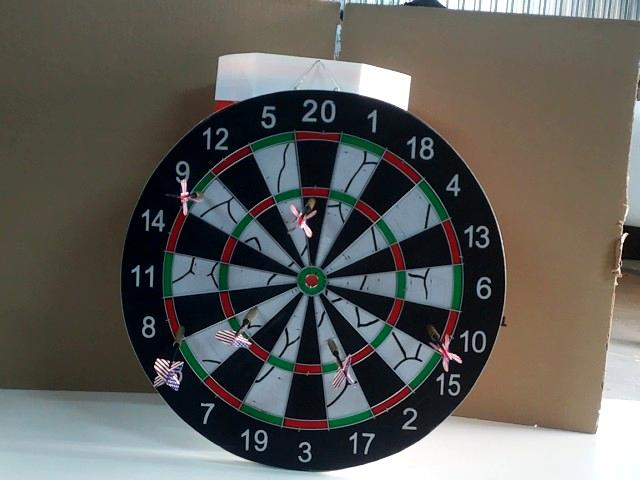single_10: (397, 304, 449, 346)
single_16: (239, 289, 299, 338)
single_17: (318, 300, 346, 362)
single_20: (297, 199, 326, 266)
single_8: (177, 294, 228, 337)
single_9: (190, 182, 249, 229)
